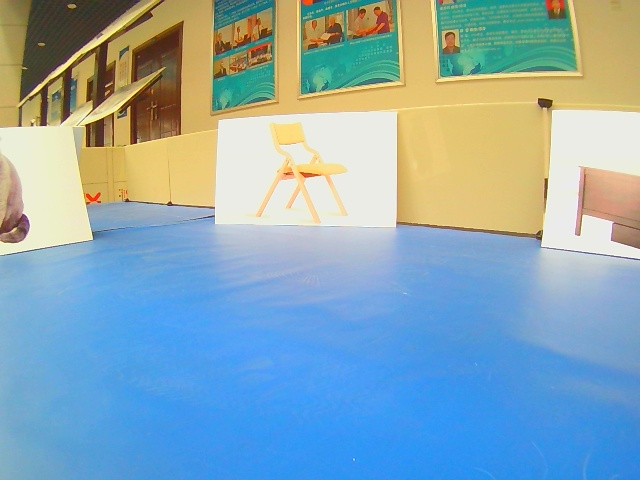table: (214, 112, 397, 226)
